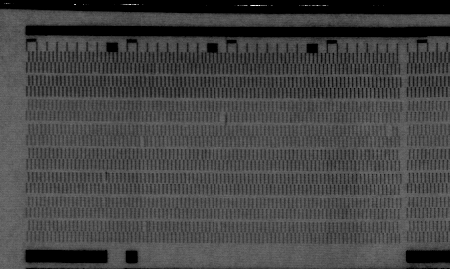Broken hole: (217, 110, 229, 124), (384, 124, 395, 138)
Oblique printing: (138, 135, 150, 148), (99, 172, 110, 186), (140, 220, 151, 233)
